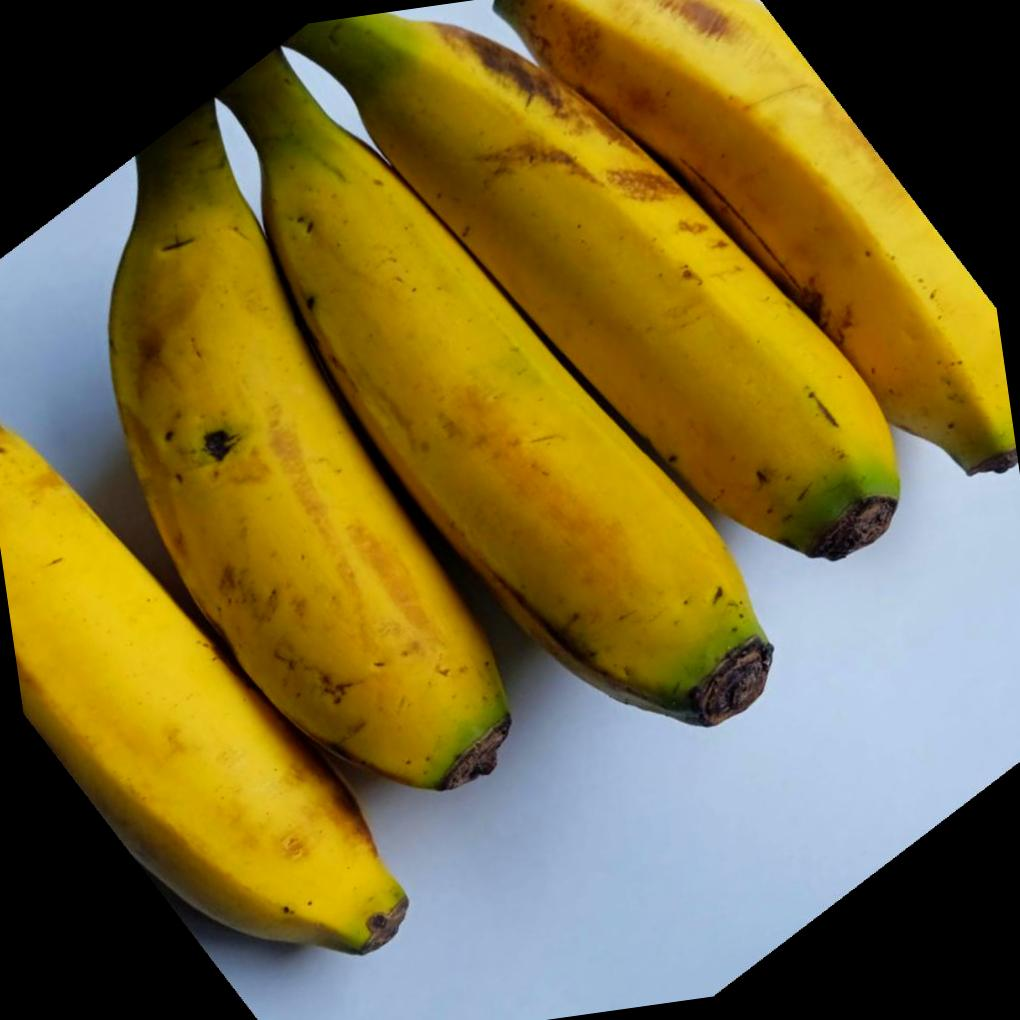Banana Ripe: (0, 0, 1020, 1010), (242, 0, 947, 778), (70, 114, 552, 858), (0, 341, 453, 1020)
